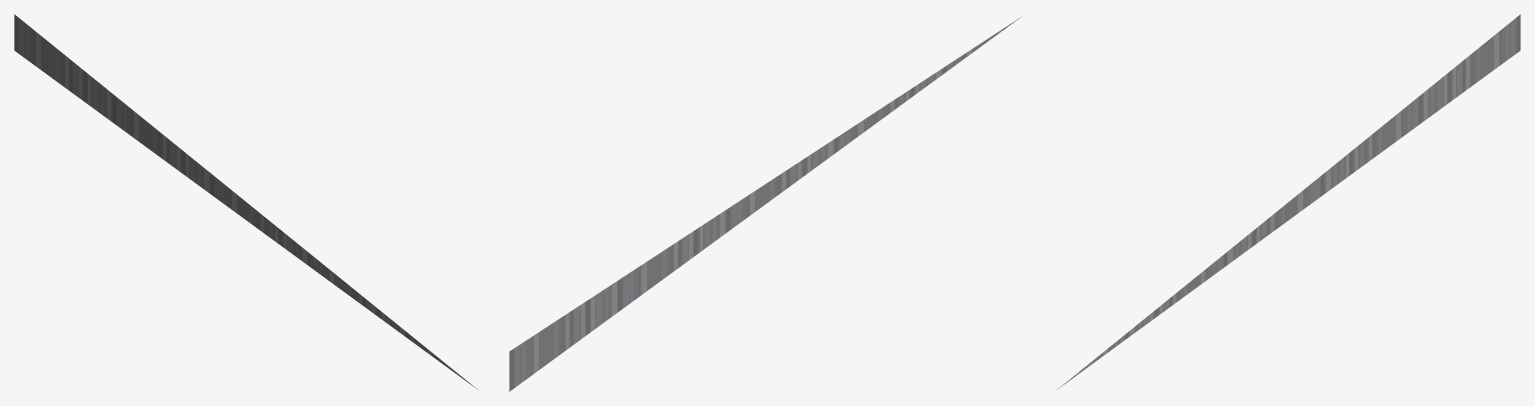
Rendered from kd_stage_135fe0_3_21_bounded.glb.
The picture shows the model from 3 angles, left to right: view 1: azimuth 30°, elevation 25°; view 2: azimuth 150°, elevation 25°; view 3: azimuth 330°, elevation 25°; orthographic projection. The views are drawn at different scales.
Visible parts, largest first — view 1: kd_stage_135fe0_3_21_bounded; view 2: kd_stage_135fe0_3_21_bounded; view 3: kd_stage_135fe0_3_21_bounded.
Boxes of the visible parts, box(x1,y1,x2,y2) form: kd_stage_135fe0_3_21_bounded: box(14, 14, 478, 390); kd_stage_135fe0_3_21_bounded: box(509, 15, 1023, 391); kd_stage_135fe0_3_21_bounded: box(1056, 14, 1520, 390).
Size of the model in its own units: 0 by 0.3 by 6.95.
1 material, 1 textured.
